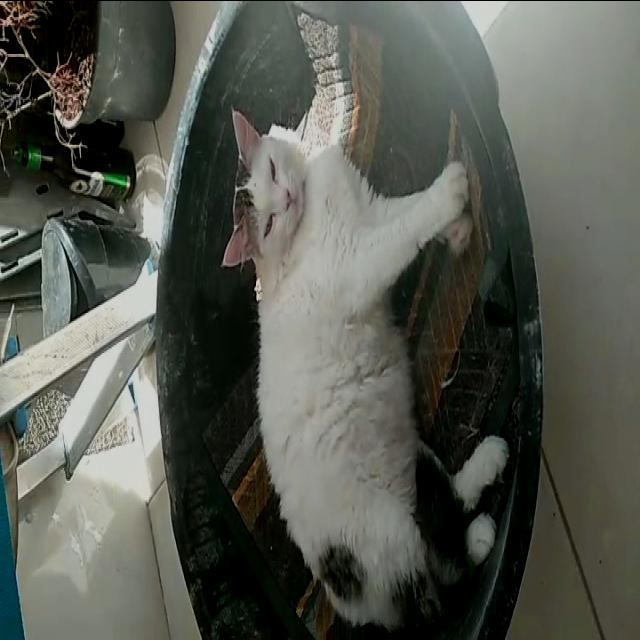Simba: (206, 69, 546, 626)
